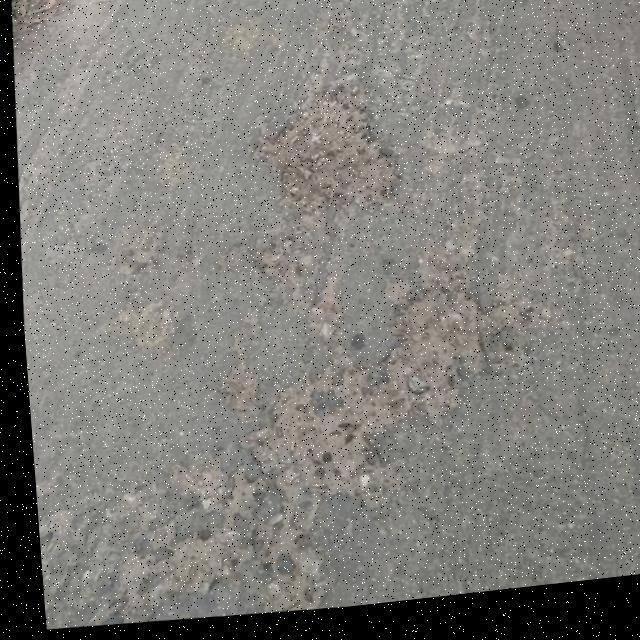pothole: (242, 86, 404, 232)
